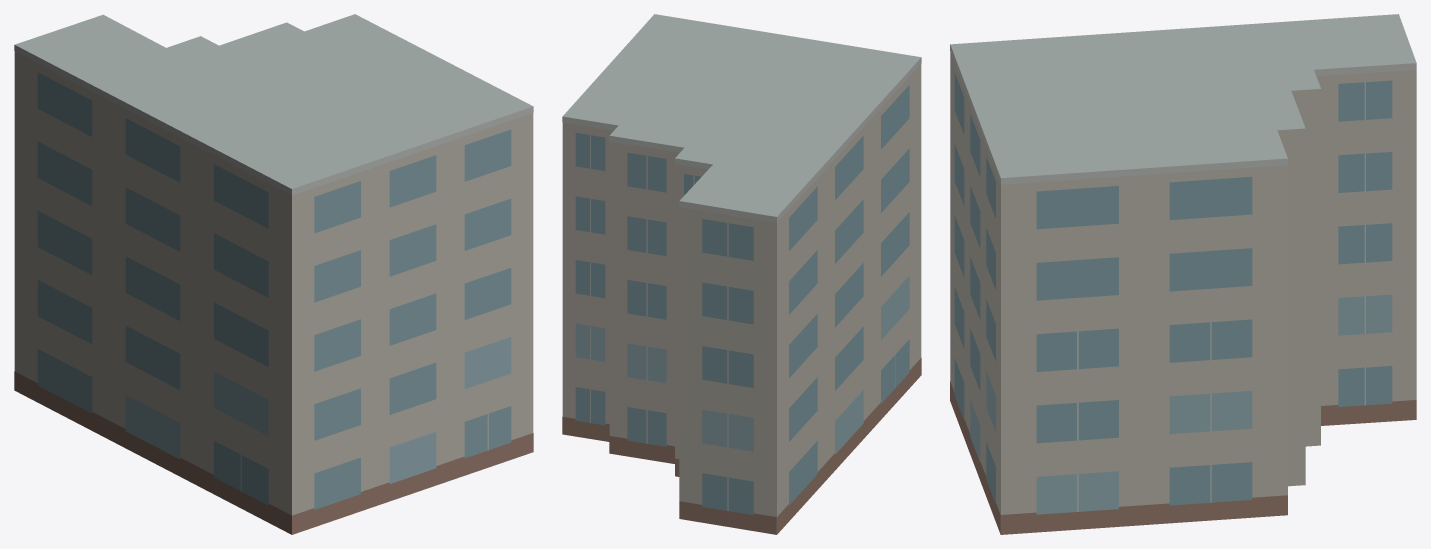
File: survey-upis-32985061.glb
3 views of the same model, side by side, from view 1: azimuth 30°, elevation 25°; view 2: azimuth 150°, elevation 25°; view 3: azimuth 270°, elevation 25° (orthographic). The views are drawn at different scales.
Parts seen in each view (by area): view 1: survey-upis-32985061.tmp; view 2: survey-upis-32985061.tmp; view 3: survey-upis-32985061.tmp.
Part boxes in pixels (left/top/right/bottom): survey-upis-32985061.tmp: left=14, top=14, right=533, bottom=534; survey-upis-32985061.tmp: left=562, top=14, right=921, bottom=534; survey-upis-32985061.tmp: left=950, top=14, right=1416, bottom=534.
Size of the model in its own units: 12.94 by 13.1 by 15.54.
